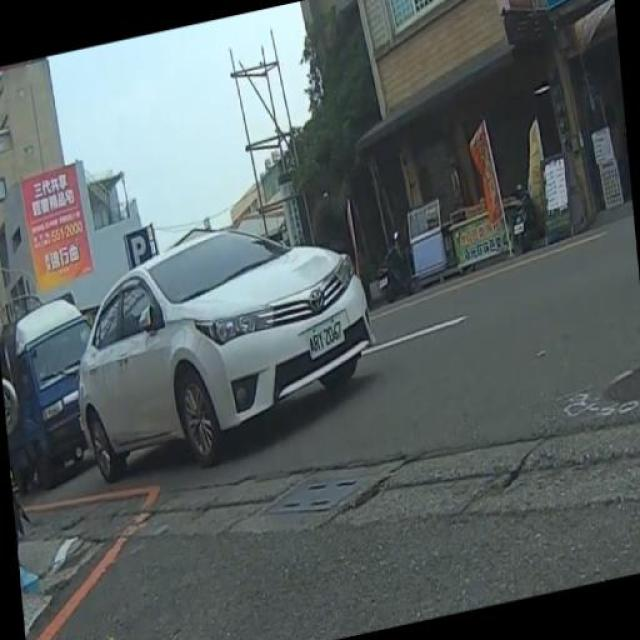Legalparking: (62, 203, 394, 509)
